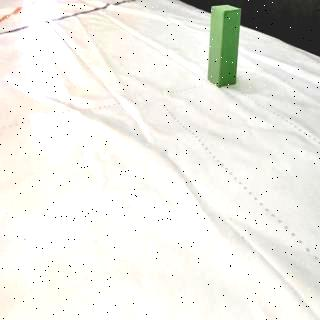greenbox: (206, 3, 242, 88)
